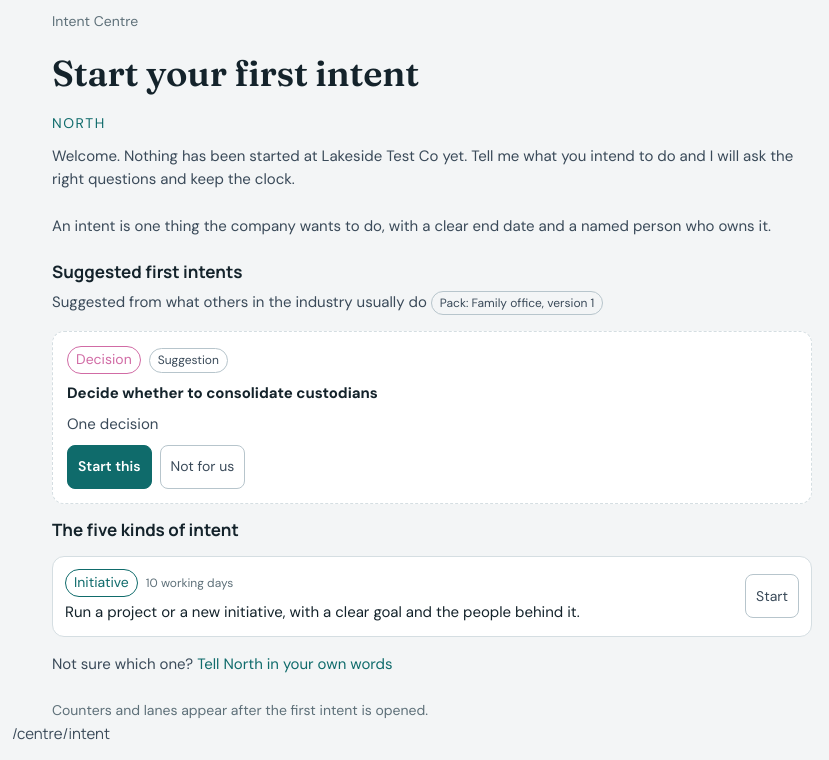
Intent Centre home › first run shows North's line, the pack suggestions labelled as suggestions, the five kinds and no counters
Check: the heading "Start your first intent" is shown, box [52,53,419,93]
Check: the text "Decide whether to consolidate custodians" is shown, box [67,383,378,403]
What coordinates should you click on to do the following:
click the button "Start this"
I would click on:
 (109, 467)
Its box is [67,445,152,489].
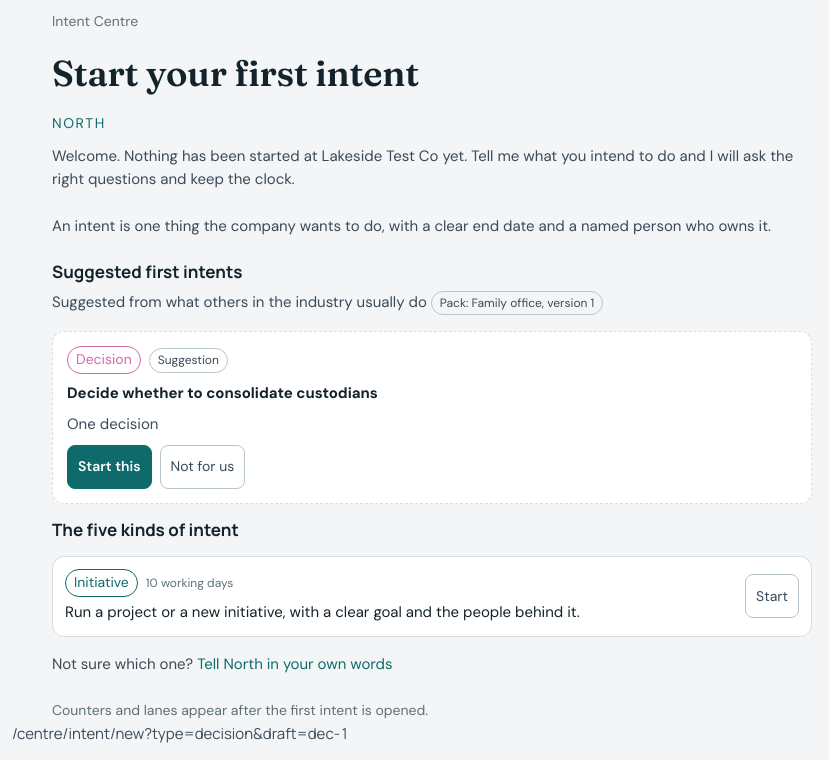
Check: the text with test id "where" reads "/centre/intent/new?type=decision&draft=dec-1", box [12,723,349,744]
